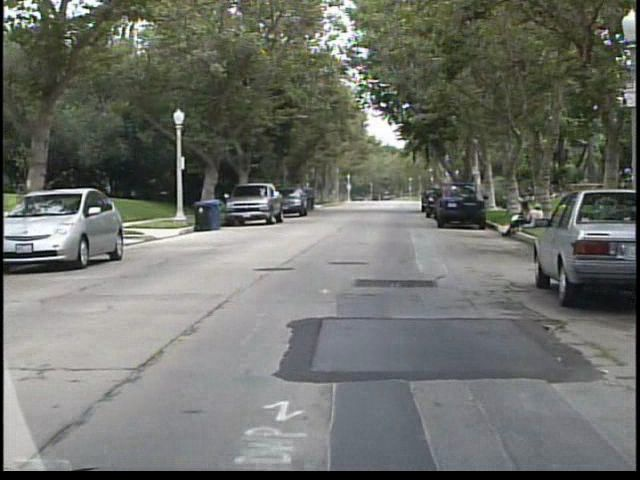person: (501, 197, 534, 239), (522, 203, 546, 236)
